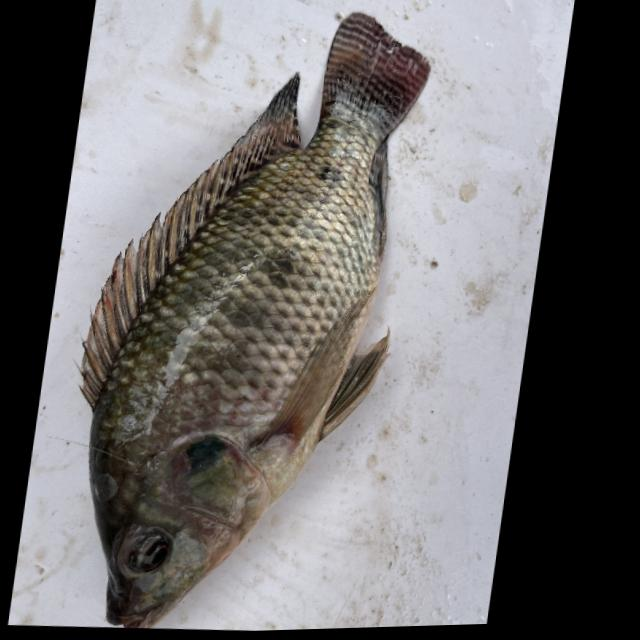Tilapia: (31, 0, 441, 637)
